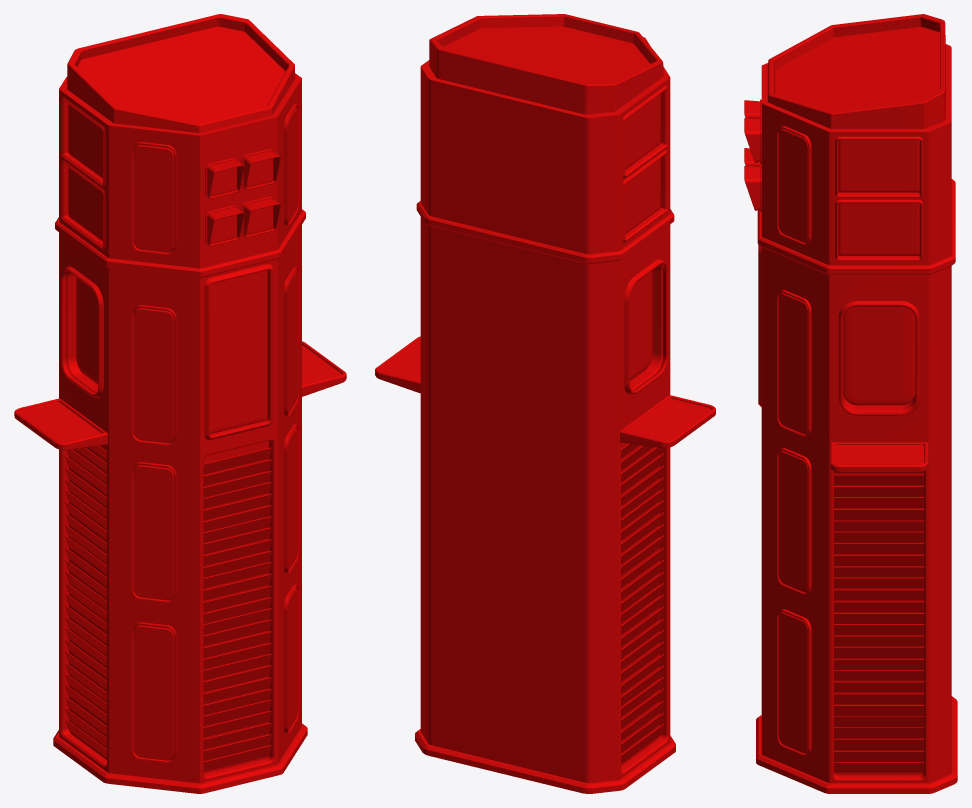
File: Equipment_7.fbx
The picture shows the model from 3 angles, left to right: view 1: azimuth 30°, elevation 25°; view 2: azimuth 150°, elevation 25°; view 3: azimuth 270°, elevation 25°; orthographic projection. The views are drawn at different scales.
Parts seen in each view (by area): view 1: L12:pCube93; view 2: L12:pCube93; view 3: L12:pCube93.
Part boxes in pixels (box(x1,y1,x2,y2)): L12:pCube93: box(14, 14, 346, 793); L12:pCube93: box(375, 14, 715, 793); L12:pCube93: box(744, 14, 957, 793).
Size of the model in its own units: 104 by 234 by 65.78.
